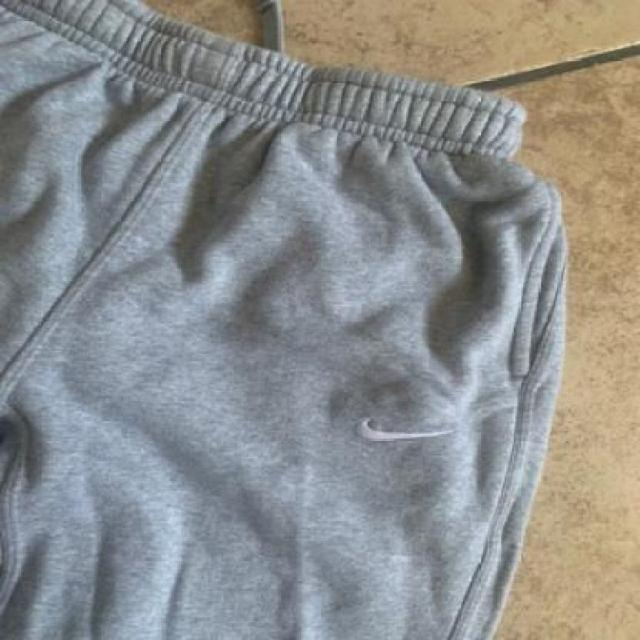Nike: (352, 416, 452, 439)
